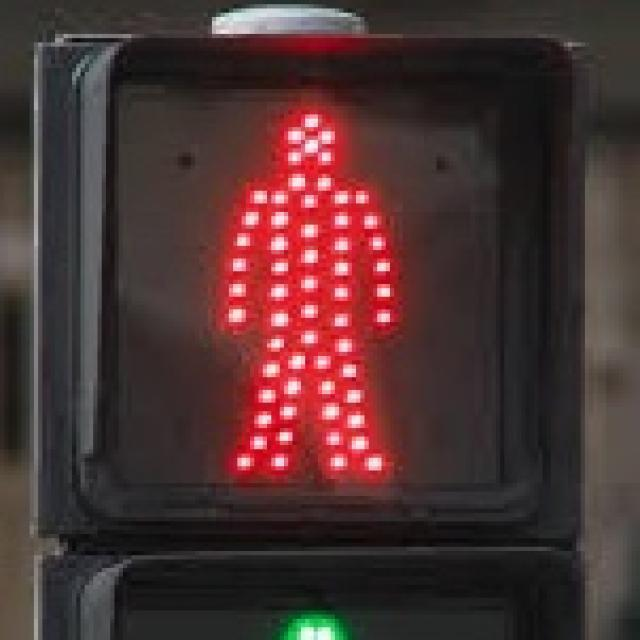red-crossing: (191, 68, 424, 492)
